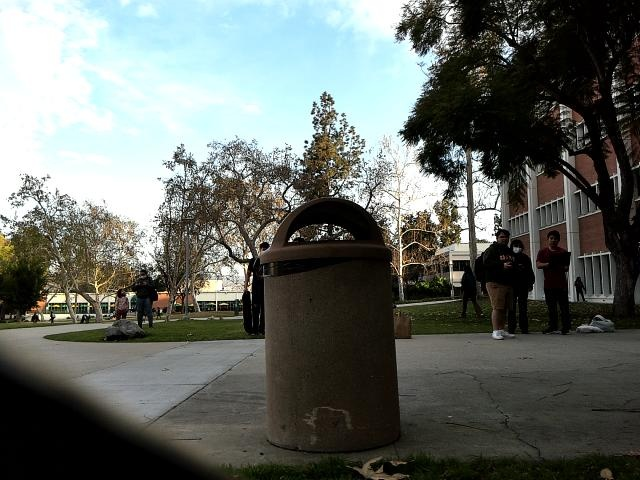trashcan: (254, 190, 412, 458)
